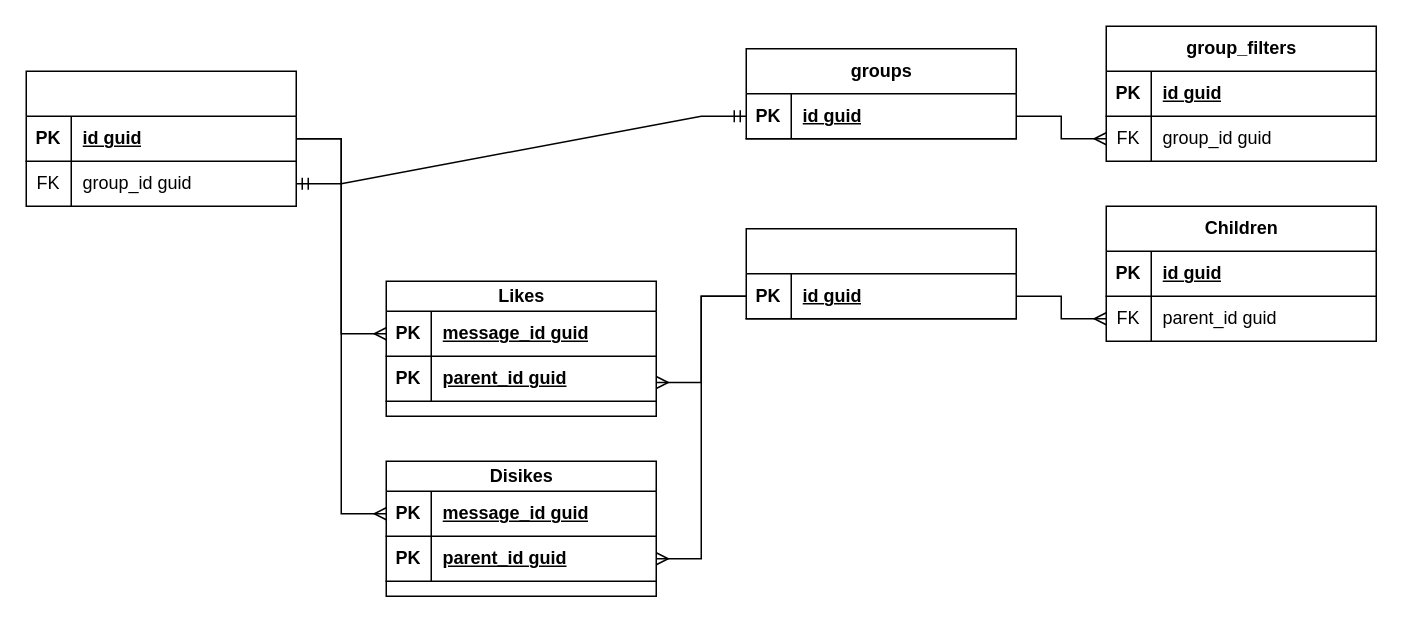
Image size: 1403x623. Some labels were removed from this diagram. The shapes that lost their labels are listed below. From the top down, each one's box as (x1, y1, x2, y2) in pixels, then its label:
(25, 70, 296, 206): messages
(745, 227, 1016, 319): Parents
